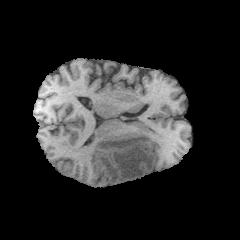glioma: (89, 136, 152, 182)
